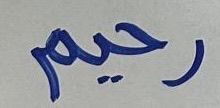jeem: (117, 9, 166, 58)
meem: (25, 20, 78, 104)
reh: (170, 31, 210, 92)
yeh: (79, 30, 116, 87)
